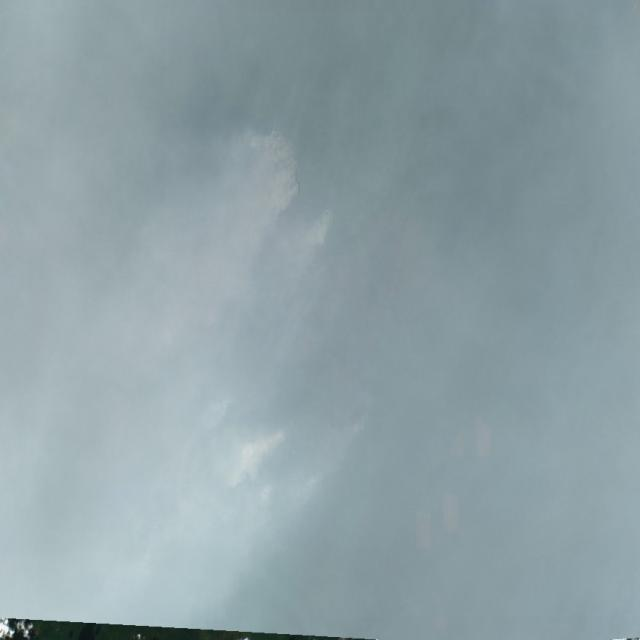fire: (221, 127, 338, 454)
